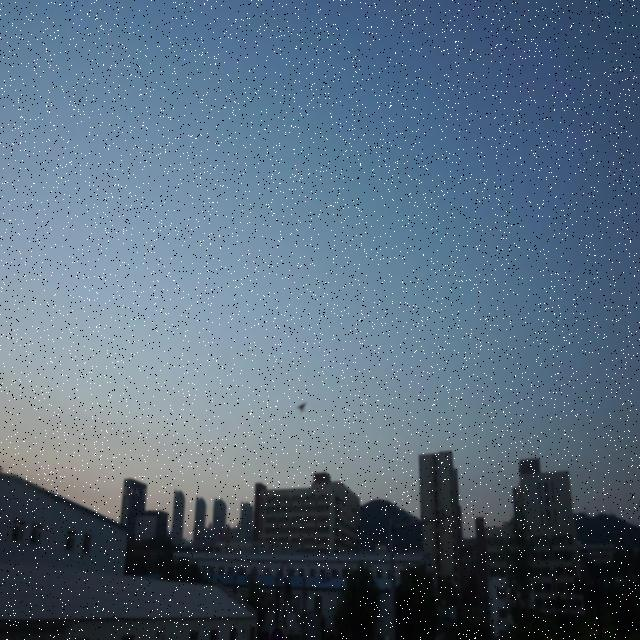UAV: (295, 402, 307, 413)
